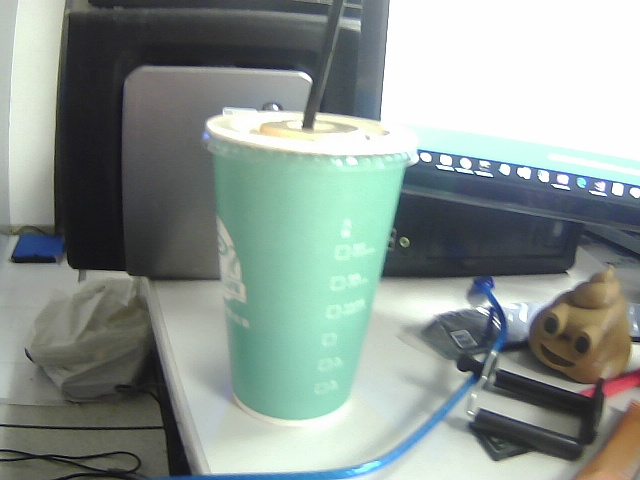beverage: (181, 4, 472, 429)
